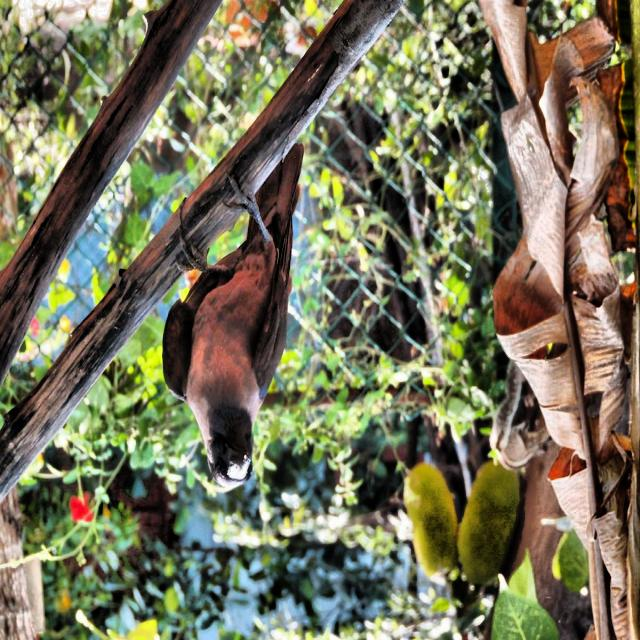crow: (149, 135, 315, 521)
